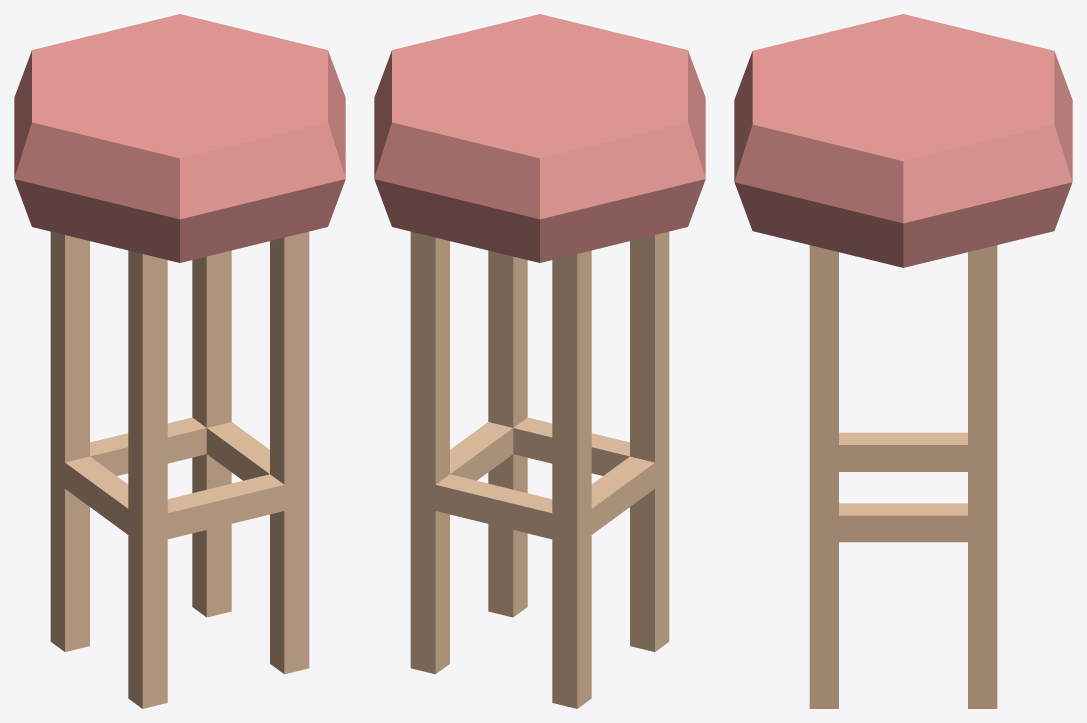
The model's file is bar-stool.glb.
3 renders of one model, left to right at view 1: azimuth 30°, elevation 25°; view 2: azimuth 150°, elevation 25°; view 3: azimuth 270°, elevation 25°, orthographic.
Parts seen in each view (by area): view 1: stoolBar(Clone); view 2: stoolBar(Clone); view 3: stoolBar(Clone).
Boxes of the visible parts, x1=… form: stoolBar(Clone): x1=14, y1=14, x2=345, y2=708; stoolBar(Clone): x1=374, y1=14, x2=705, y2=708; stoolBar(Clone): x1=734, y1=14, x2=1072, y2=708.
Size of the model in its own units: 0.2654 by 0.435 by 0.2299.
